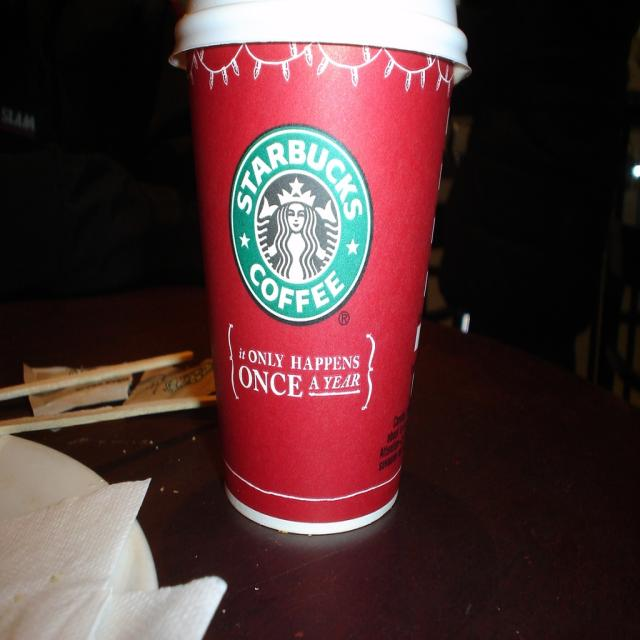starbucks: (230, 123, 375, 329)
